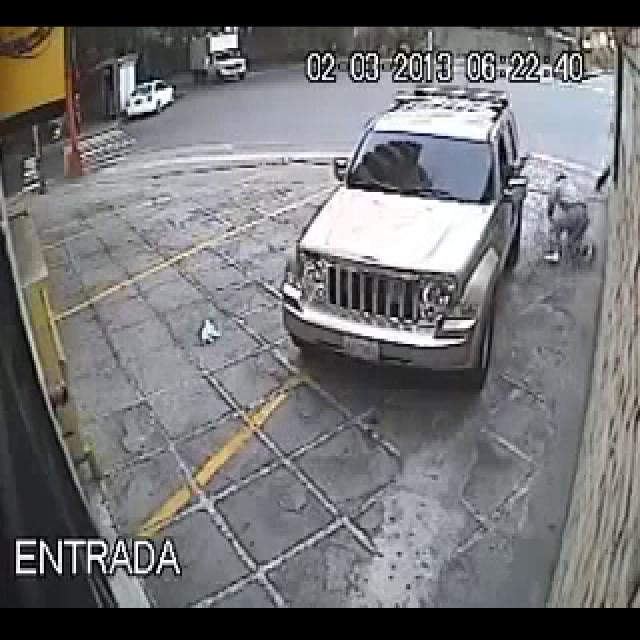shooting: (332, 18, 631, 484)
